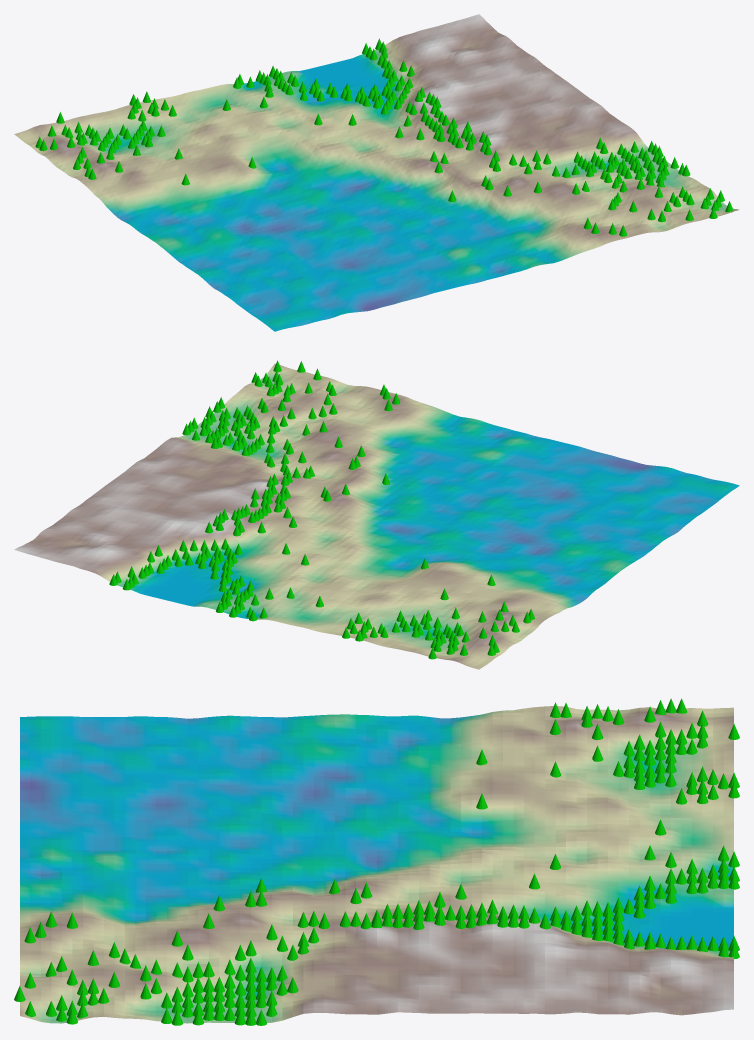
The model's file is 000543_with_tree.glb.
3 renders of one model, top to bottom at view 1: azimuth 30°, elevation 25°; view 2: azimuth 150°, elevation 25°; view 3: azimuth 270°, elevation 25°, orthographic. The views are drawn at different scales.
Parts seen in each view (by area): view 1: terrain, trees; view 2: terrain, trees; view 3: terrain, trees.
Boxes of the visible parts, bbox=[...] form: terrain: bbox=[14, 14, 739, 331]; trees: bbox=[35, 38, 733, 236]; terrain: bbox=[14, 363, 739, 669]; trees: bbox=[109, 360, 534, 659]; terrain: bbox=[20, 706, 733, 1023]; trees: bbox=[14, 698, 739, 1025].
Size of the model in its own units: 0.019 by 0.00101 by 0.0186.
